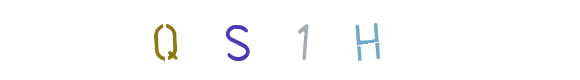1: (250, 0, 330, 80)
H: (283, 0, 363, 80)
Q: (126, 0, 206, 80)
S: (197, 0, 277, 80)
